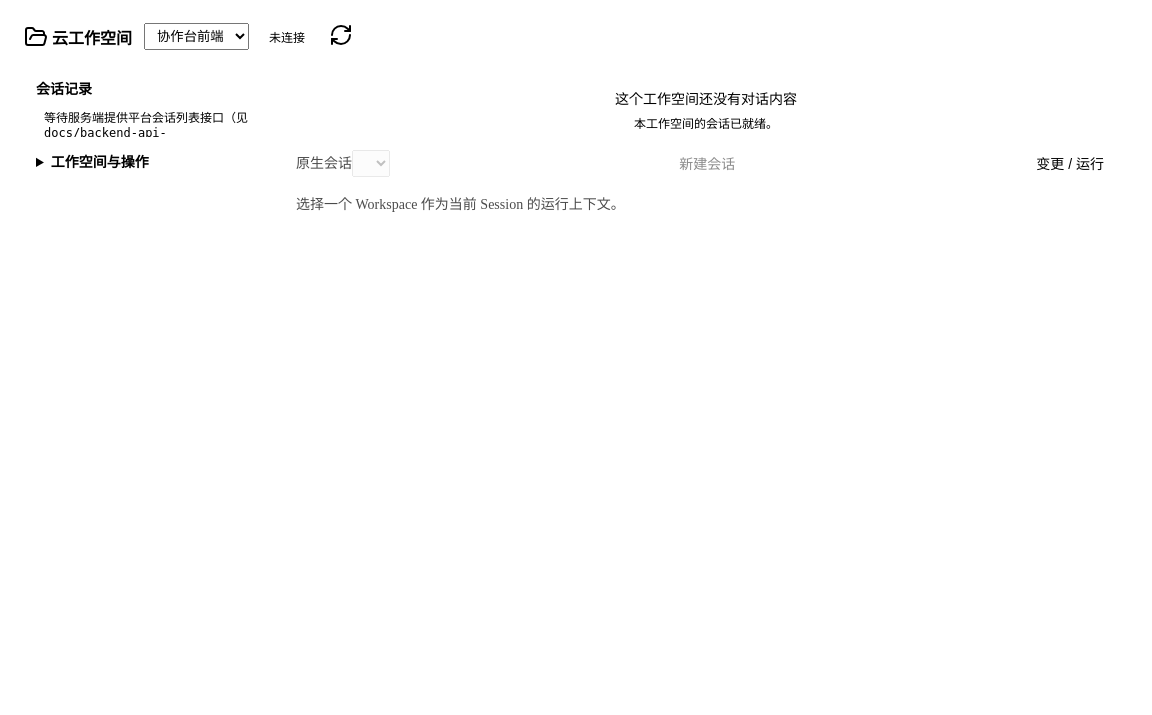
Scenario: 2-4 审批卡、接管与证据抽屉 › 决策被服务端拒绝（revision 冲突）→ 证据抽屉带 HTTP 状态与 request ID
Step 1. Click the button with aria-label "打开变更与运行面板" → (1070, 163), box [1024,149,1116,177]
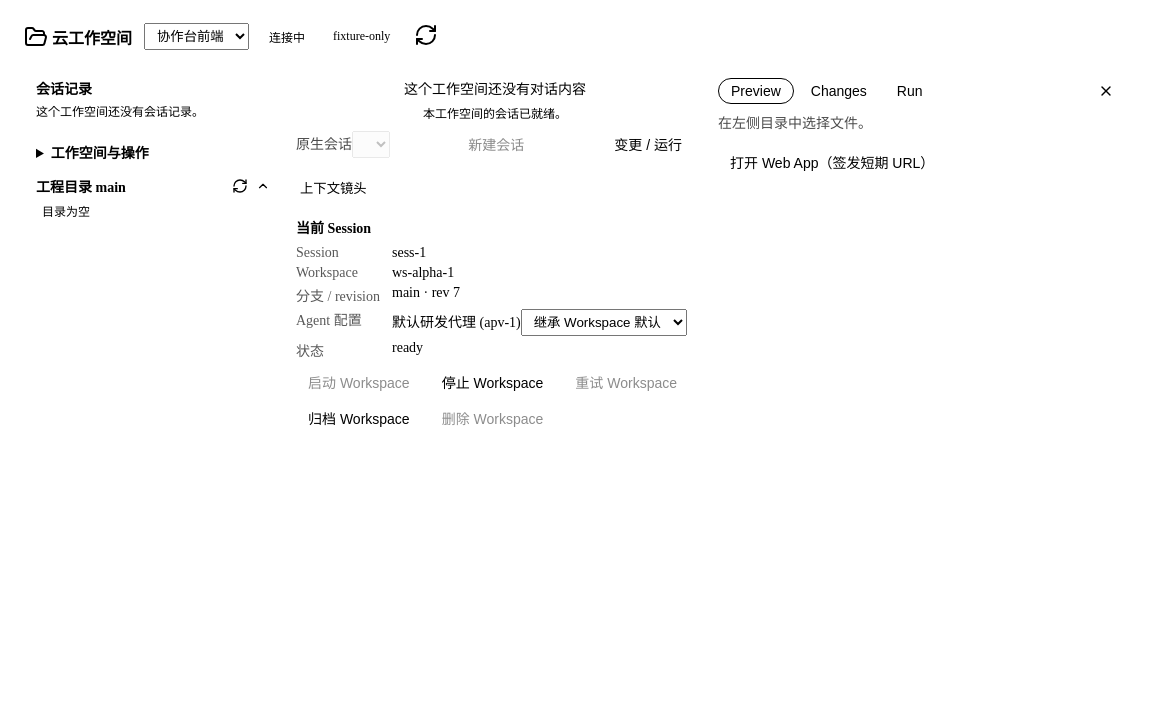
Step 2. Click the tab "Run" → (910, 91), box [884,78,936,104]
(page scrolled)
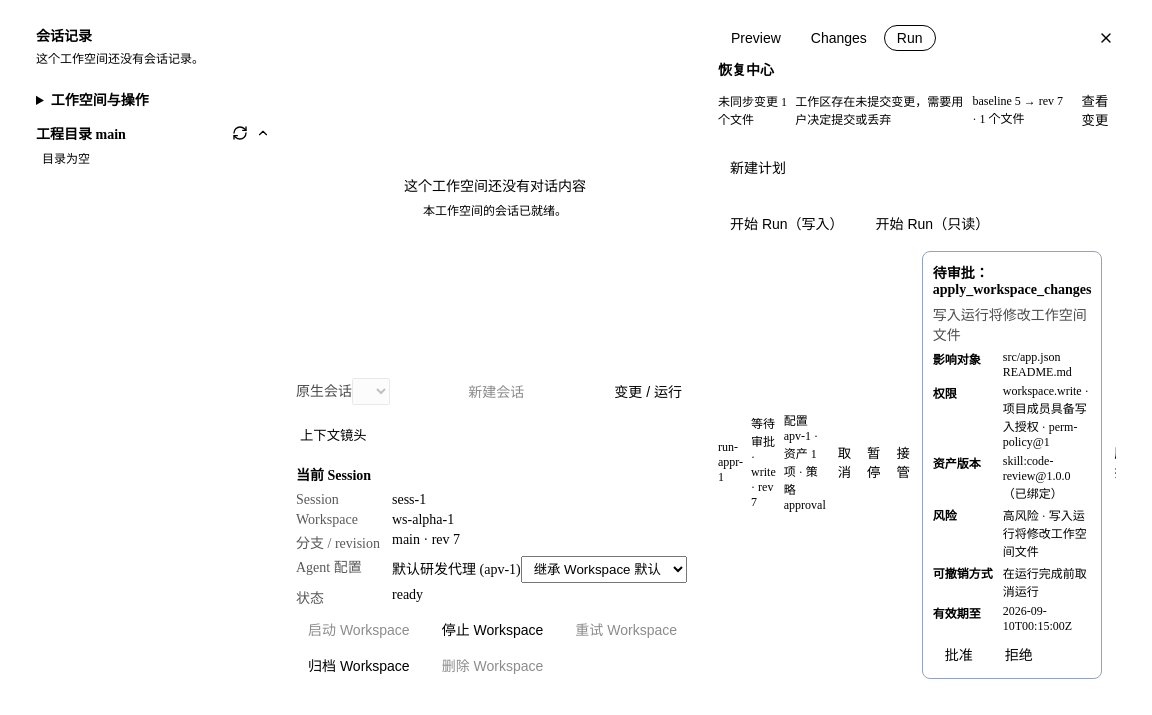
Step 3. Click the button "批准" → (959, 654), box [933,640,985,668]
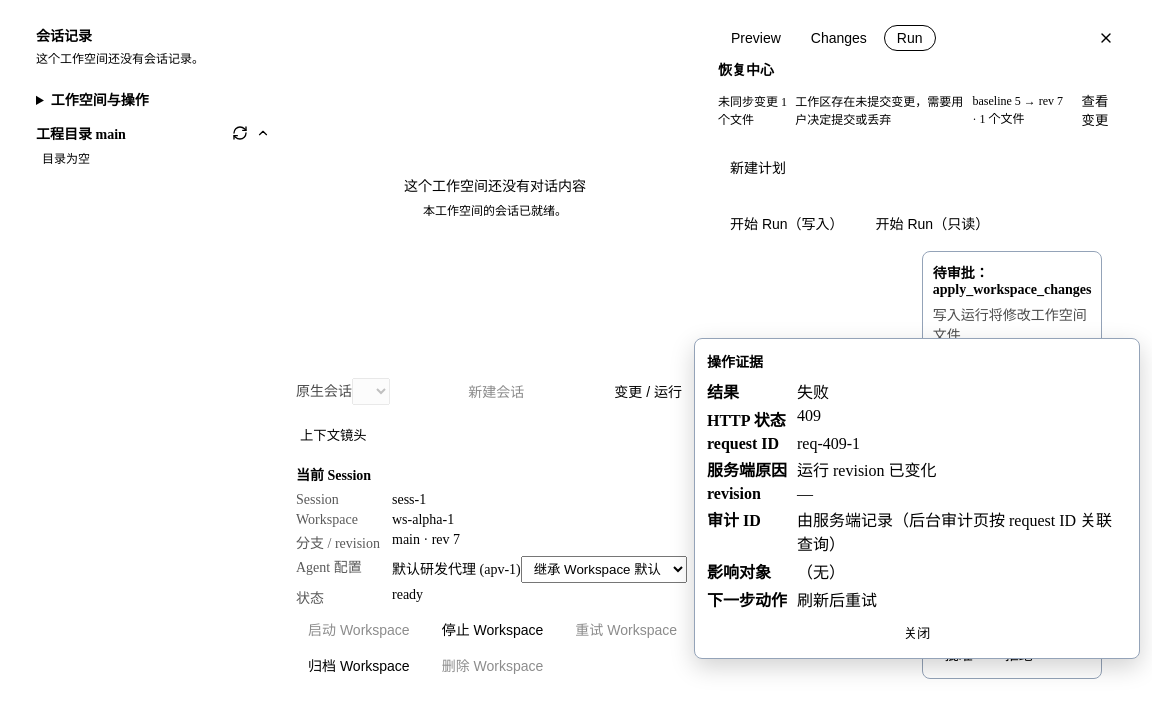
Check: the element "操作证据" shows "409", box [797,407,821,424]
Check: the element "操作证据" shows "req-409-1", box [797,435,860,452]
Check: the element "操作证据" shows "运行 revision 已变化", box [797,462,937,479]
